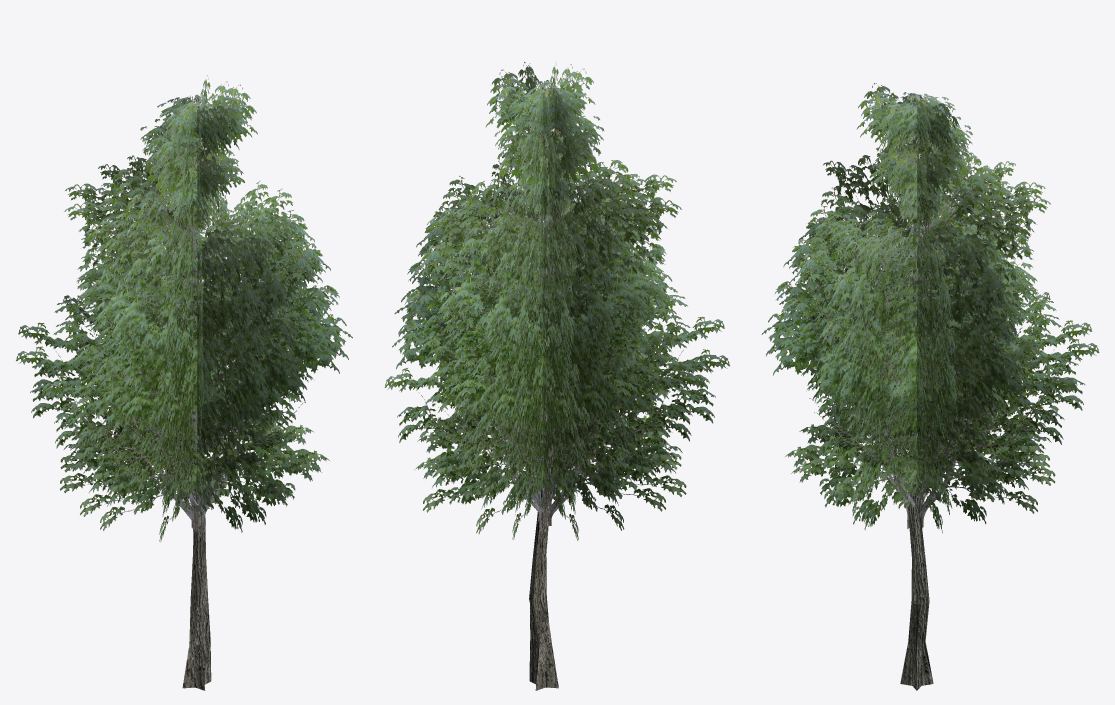
The model's file is tree4.fbx.
3 views of the same model, side by side, from view 1: azimuth 30°, elevation 25°; view 2: azimuth 150°, elevation 25°; view 3: azimuth 270°, elevation 25° (orthographic). The views are drawn at different scales.
Visible parts, largest first — view 1: tree4; view 2: tree4; view 3: tree4.
Part boxes in pixels (<box>): tree4: <box>16,75,352,690</box>; tree4: <box>384,62,729,690</box>; tree4: <box>761,83,1099,690</box>.
Bounding box in the file's own units: 86.72 × 167 × 86.72.
Materials: 2 (2 with a texture image).
